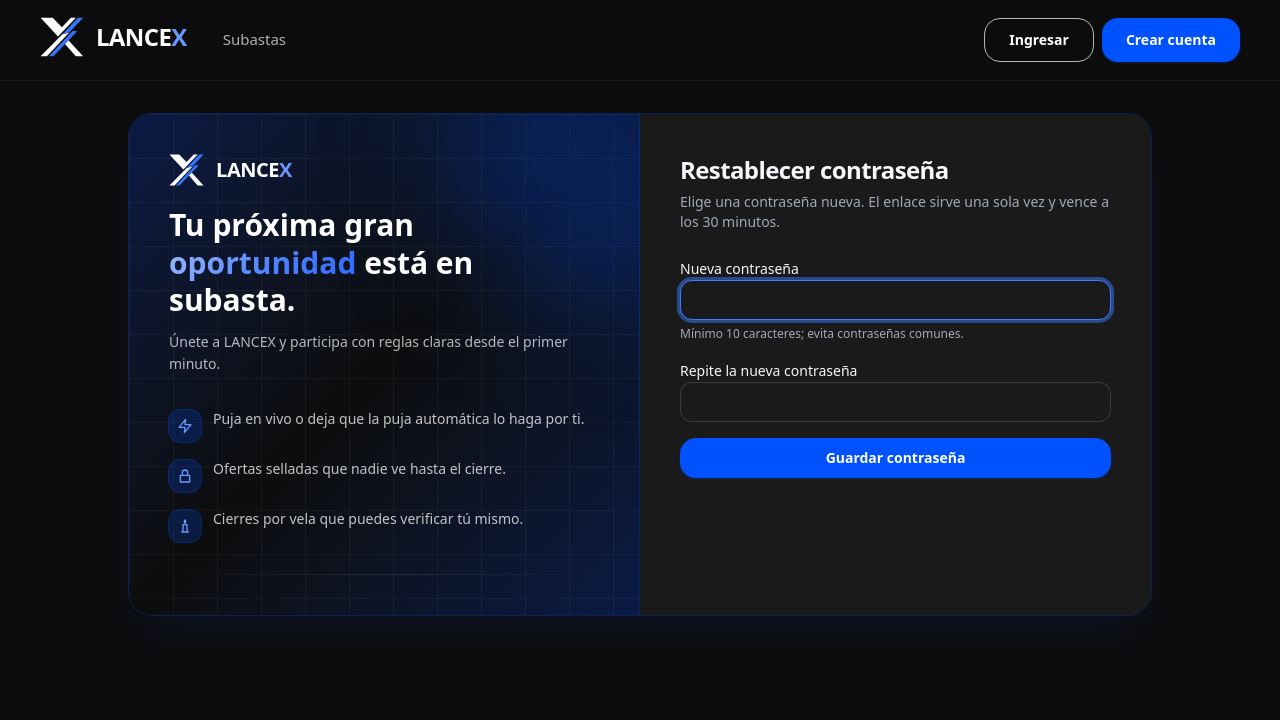
Test: Restablecer contraseña con el enlace del admin › quita el token de la URL, lo envía y confirma
In the password field labelled "Nueva contraseña": (896, 300) [680, 280, 1111, 320], type "OtraClave2026!!"
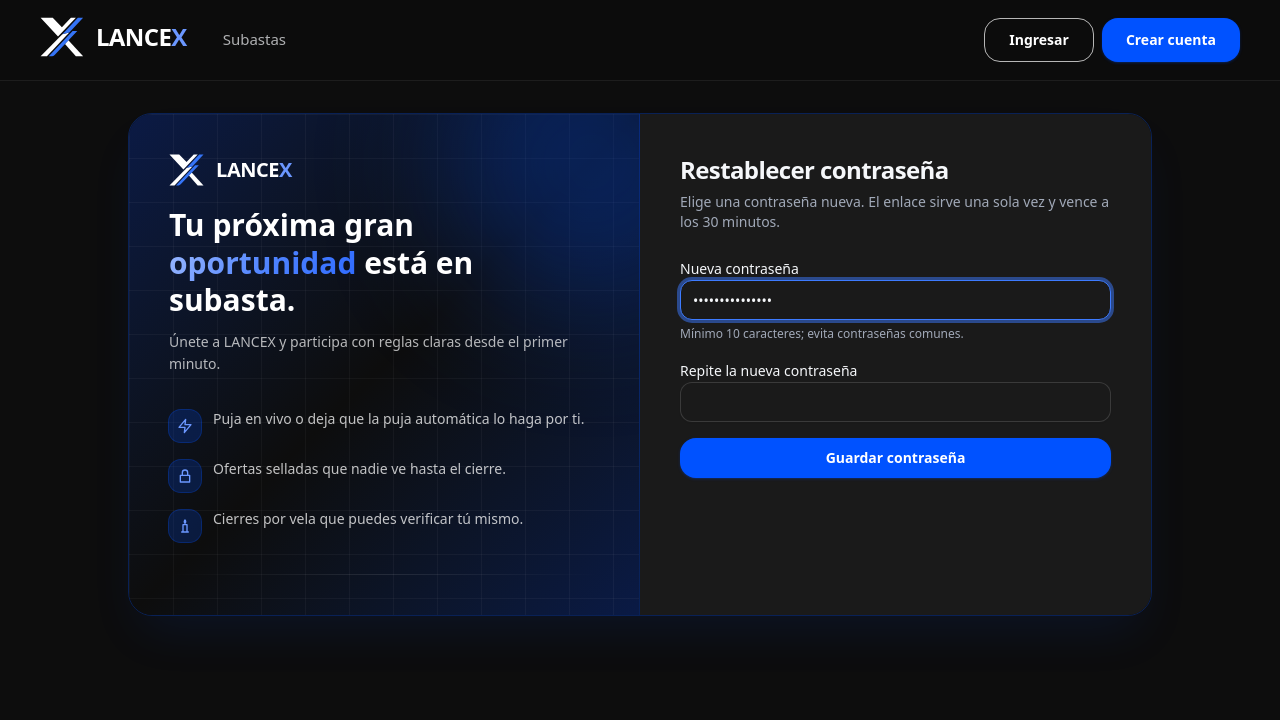
In the password field labelled "Repite la nueva contraseña": (896, 402) [680, 382, 1111, 422], type "OtraClave2026!!"
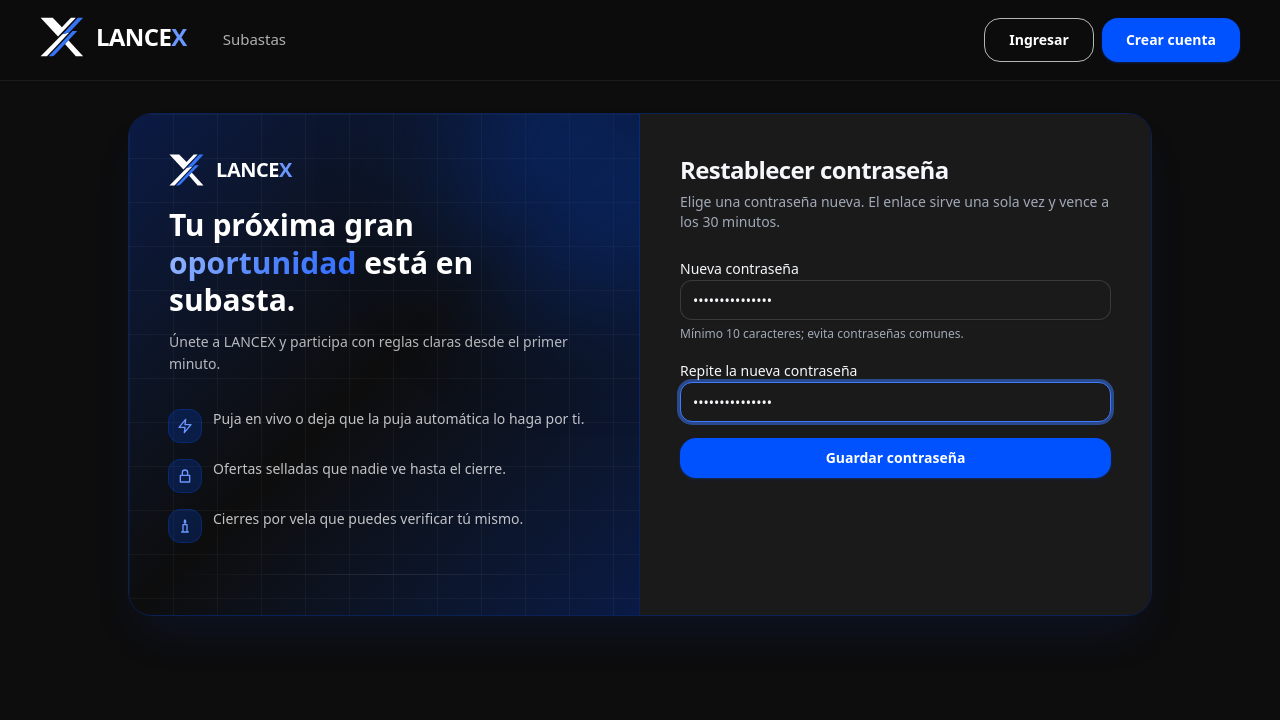
Click the button "Guardar contraseña": (896, 458) [680, 438, 1111, 478]
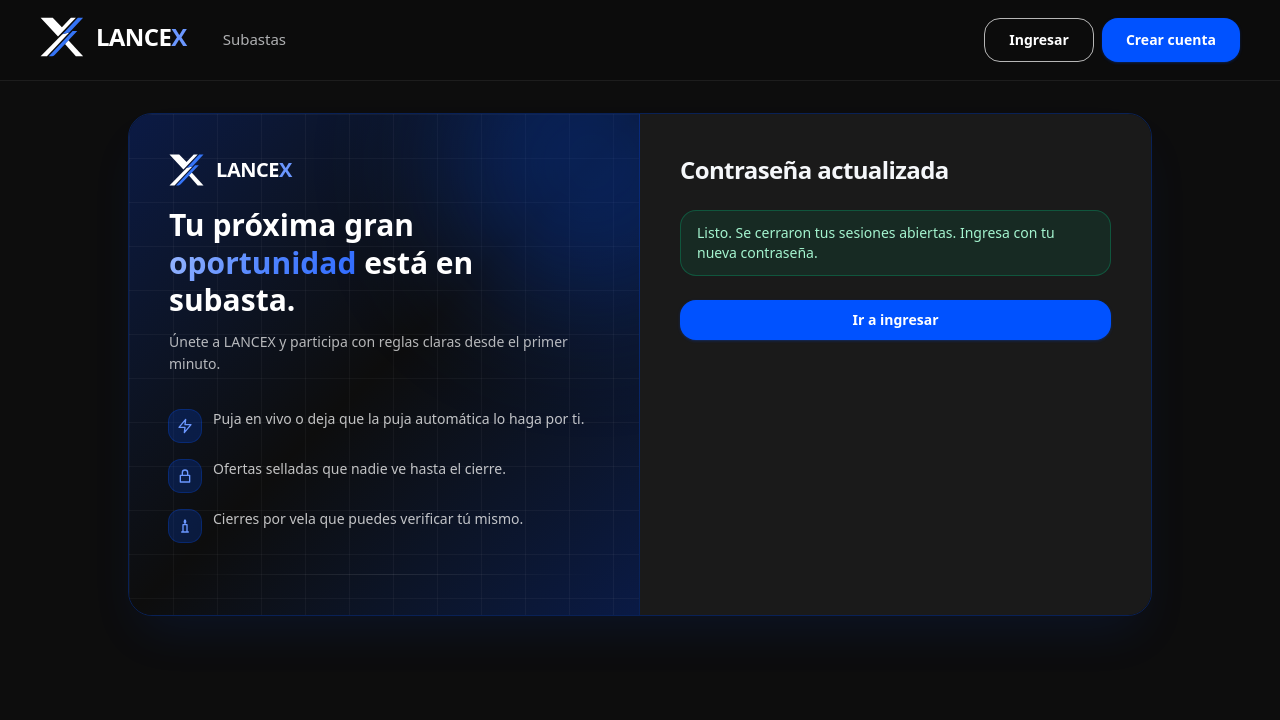
Check: the text "Listo. Se cerraron tus sesiones abiertas. Ingresa con tu nueva contraseña." is shown, box [680, 210, 1111, 276]
